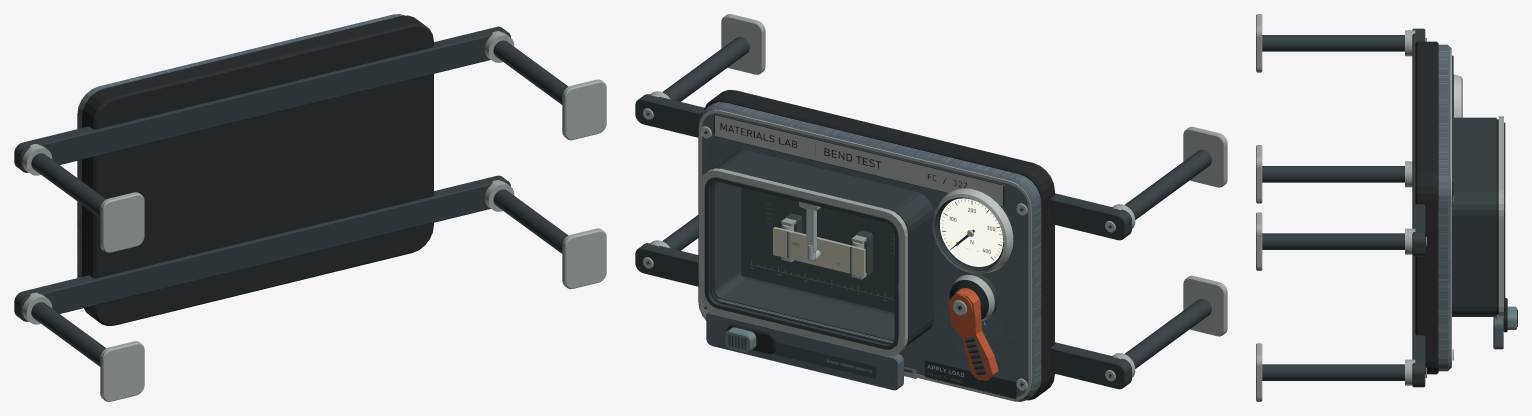
The model's file is FractureCartridge.fbx.
The picture shows the model from 3 angles, left to right: view 1: azimuth 30°, elevation 25°; view 2: azimuth 150°, elevation 25°; view 3: azimuth 270°, elevation 25°; orthographic projection. The views are drawn at different scales.
Visible parts, largest first — view 1: fracture_frame; view 2: fracture_frame, fracture_markings, fracture_press, fracture_shard_05, fracture_coupon, fracture_shard_01, fracture_reload, fracture_punch; view 3: fracture_frame, fracture_reload.
Boxes of the visible parts, x1,y1,x2,y2 form: fracture_frame: [14, 14, 606, 401]; fracture_frame: [635, 14, 1227, 401]; fracture_markings: [715, 115, 1016, 399]; fracture_press: [948, 288, 998, 380]; fracture_shard_05: [823, 241, 865, 276]; fracture_coupon: [773, 227, 865, 276]; fracture_shard_01: [774, 227, 808, 262]; fracture_reload: [725, 327, 756, 352]; fracture_punch: [806, 209, 820, 262]; fracture_frame: [1256, 14, 1507, 401]; fracture_reload: [1507, 306, 1517, 329].
Bounding box in the file's own units: 0.744 × 0.323 × 0.3806.
Materials: 16 (3 with a texture image).
